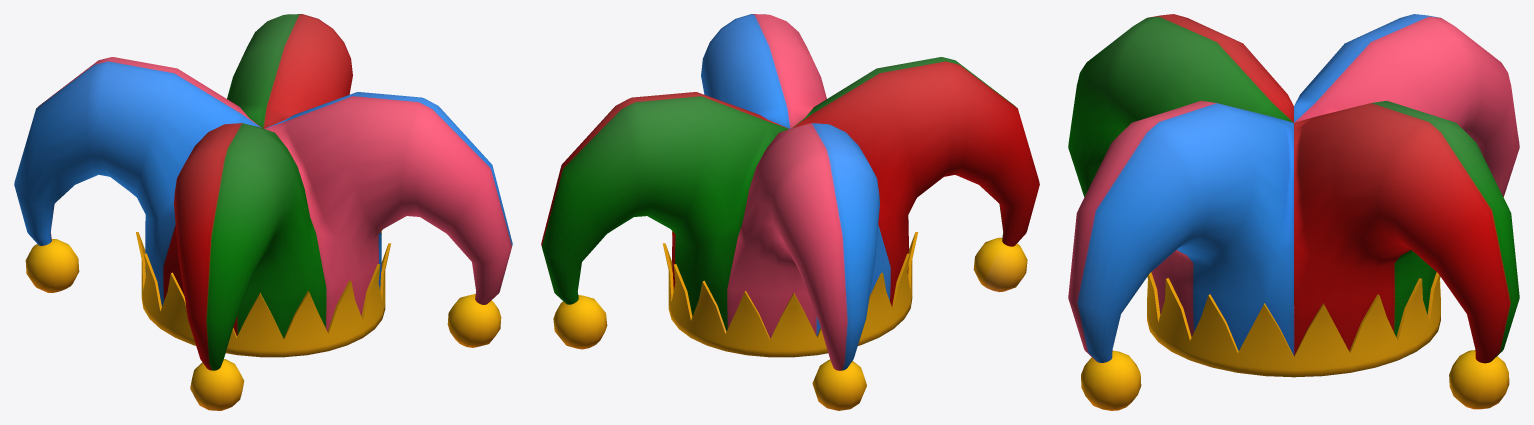
File: JesterHat.FBX
The picture shows the model from 3 angles, left to right: view 1: azimuth 30°, elevation 25°; view 2: azimuth 150°, elevation 25°; view 3: azimuth 270°, elevation 25°; orthographic projection. The views are drawn at different scales.
Parts seen in each view (by area): view 1: JesterHat; view 2: JesterHat; view 3: JesterHat.
Boxes of the visible parts, x1,y1,x2,y2 form: JesterHat: (14,14,512,410); JesterHat: (541,14,1039,410); JesterHat: (1068,14,1519,410).
Bounding box in the file's own units: 53.15 × 37.67 × 57.72.
1 material, 1 textured.
